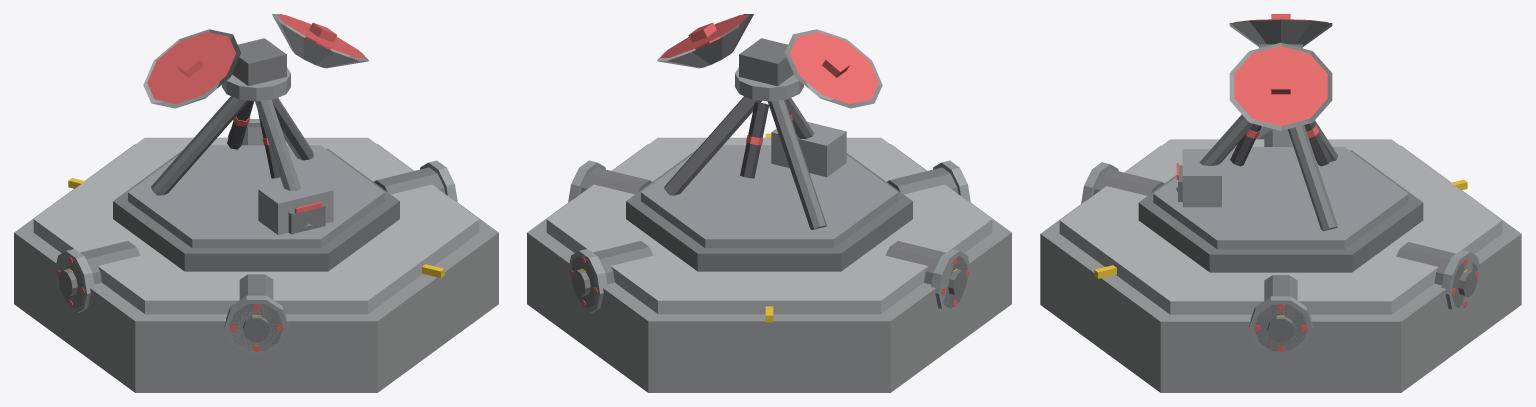
The model's file is control_projector_s2_100.glb.
The picture shows the model from 3 angles, left to right: view 1: azimuth 30°, elevation 25°; view 2: azimuth 150°, elevation 25°; view 3: azimuth 270°, elevation 25°; orthographic projection.
Parts seen in each view (by area): view 1: ControlProjector_s2; view 2: ControlProjector_s2; view 3: ControlProjector_s2.
Part boxes in pixels (x1,y1,x2,y2): ControlProjector_s2: [14, 14, 498, 392]; ControlProjector_s2: [527, 14, 1011, 392]; ControlProjector_s2: [1040, 14, 1521, 392].
Size of the model in its own units: 1.78 by 1.23 by 1.96.
